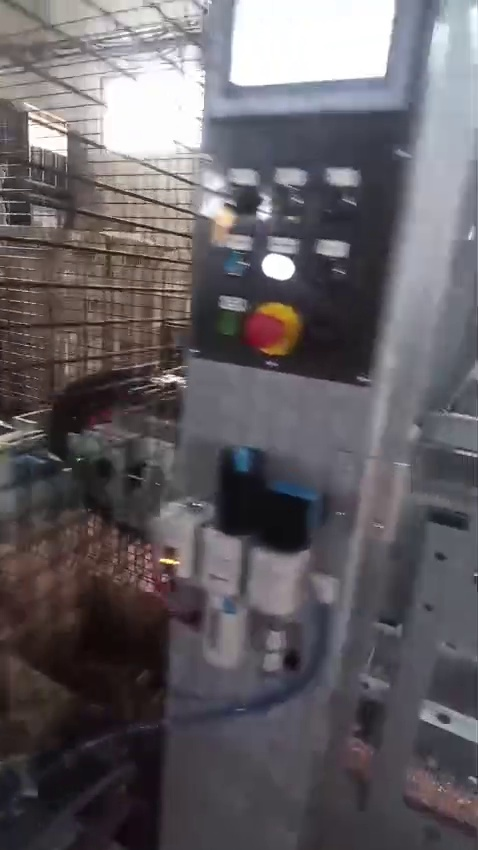savon: (0, 216, 192, 368), (252, 301, 305, 358), (95, 182, 180, 210), (36, 687, 70, 719), (154, 348, 182, 376), (64, 368, 112, 382), (213, 214, 236, 240), (30, 529, 70, 542), (16, 671, 34, 692), (8, 238, 48, 247), (159, 555, 182, 567), (30, 620, 48, 632), (54, 622, 74, 632)
